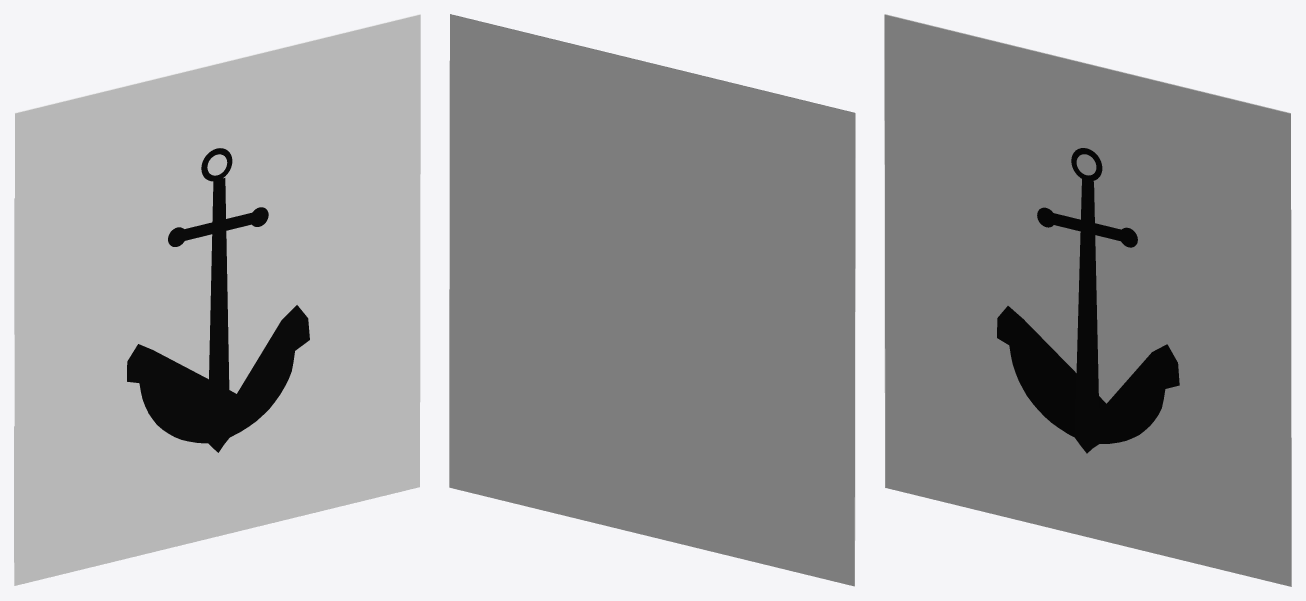
The model's file is portOptimized2.fbx.
3 renders of one model, left to right at view 1: azimuth 30°, elevation 25°; view 2: azimuth 150°, elevation 25°; view 3: azimuth 330°, elevation 25°, orthographic.
Parts seen in each view (by area): view 1: Circle; view 2: Circle; view 3: Circle.
Boxes of the visible parts, bbox=[...] form: Circle: bbox=[14, 14, 420, 585]; Circle: bbox=[449, 14, 855, 586]; Circle: bbox=[884, 14, 1291, 586].
Bounding box in the file's own units: 180 × 201 × 1.59.
